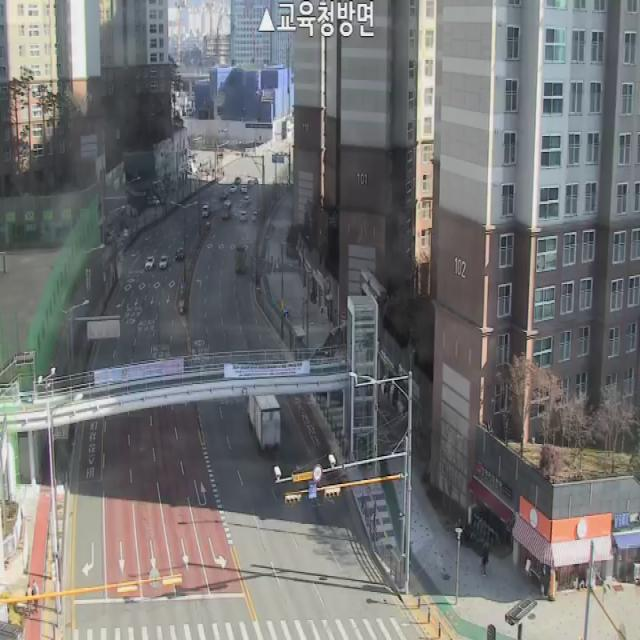Car: (222, 199, 232, 219), (202, 200, 210, 218), (145, 256, 155, 270), (175, 247, 185, 261), (159, 255, 168, 270), (240, 211, 248, 223), (242, 196, 250, 207), (240, 184, 248, 194), (220, 192, 229, 200), (230, 184, 237, 194), (252, 212, 258, 222), (234, 177, 242, 184)
Truck: (246, 394, 281, 453)
